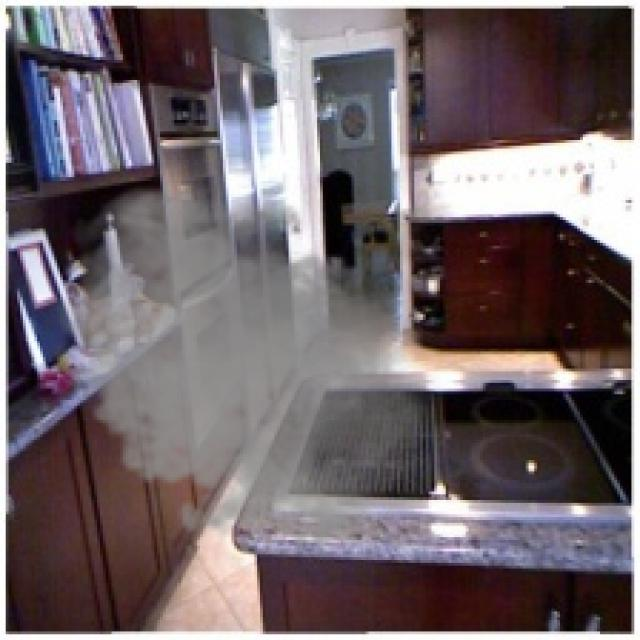smoke: (46, 180, 448, 560)
